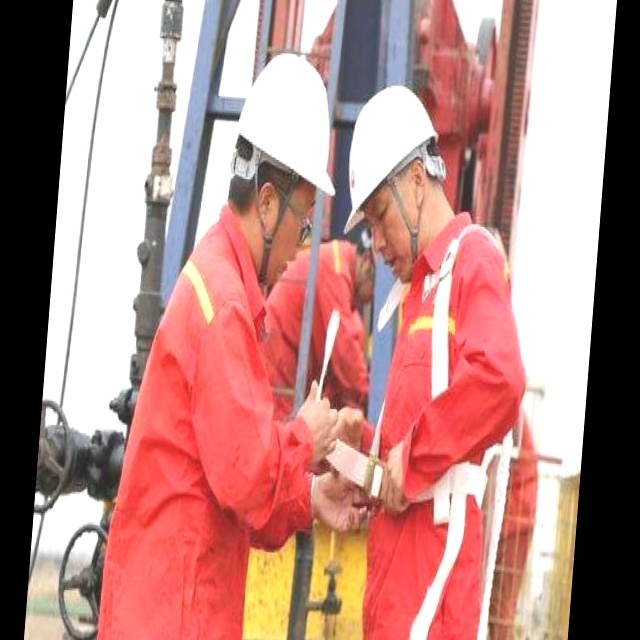Con_Casco: (217, 46, 345, 293), (337, 79, 444, 281)
